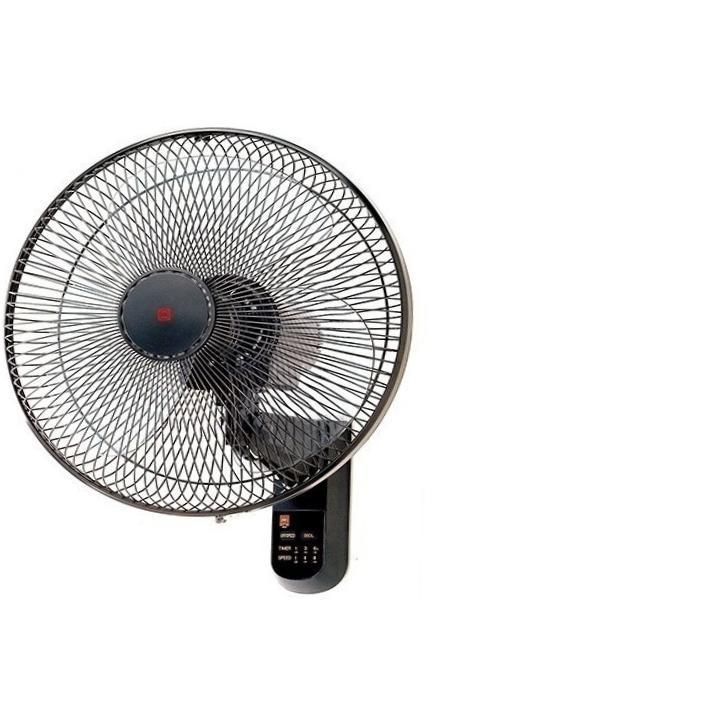fan: (0, 128, 438, 628)
